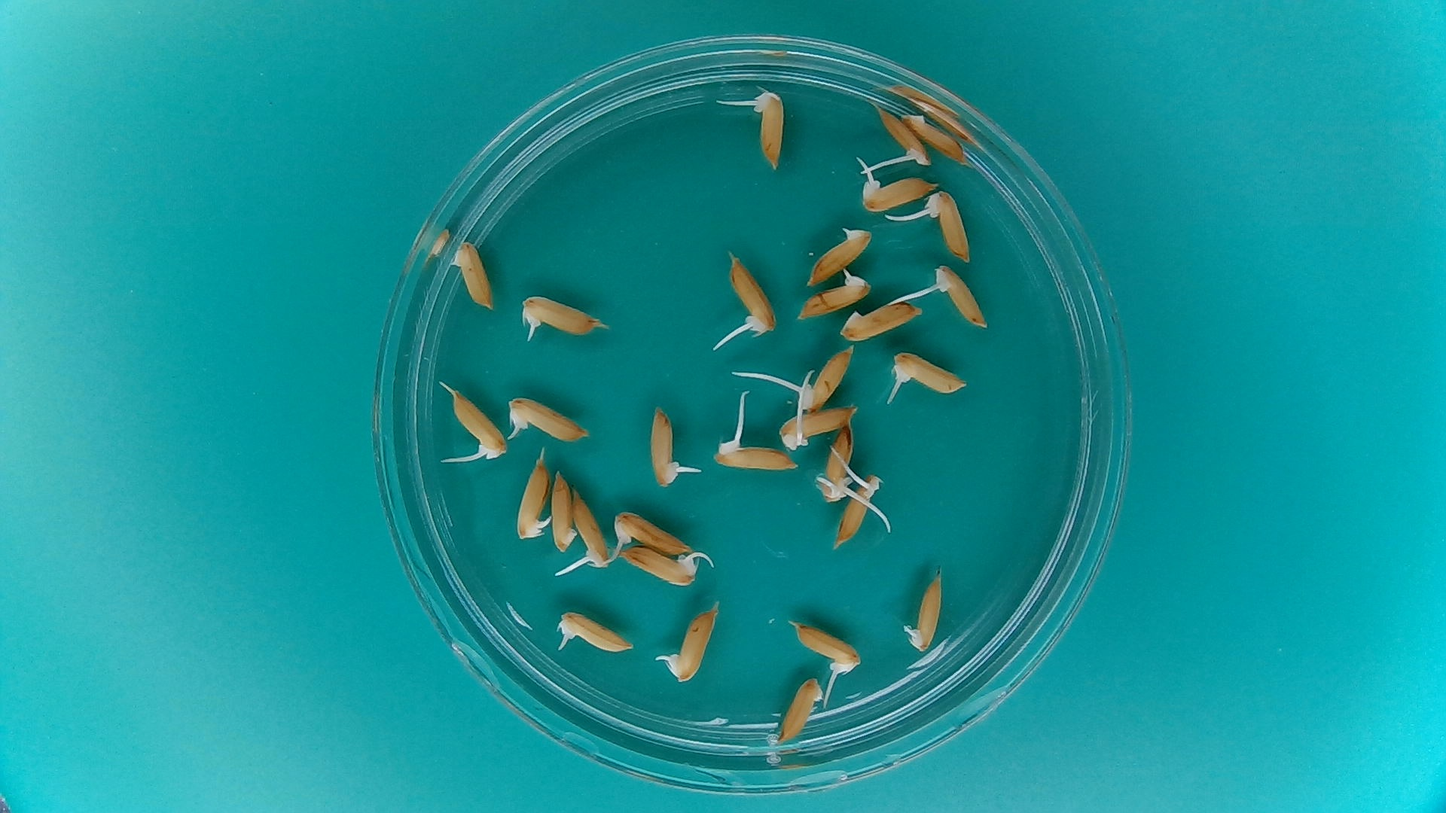no: (448, 234, 496, 312), (837, 300, 921, 343), (776, 672, 825, 745), (900, 112, 965, 163), (549, 467, 578, 555)
yes: (509, 393, 597, 445), (725, 260, 779, 341), (804, 227, 873, 286), (450, 388, 503, 463), (669, 604, 719, 682), (923, 188, 973, 263), (831, 476, 880, 552), (614, 512, 693, 559), (797, 273, 874, 321), (932, 267, 990, 330), (800, 349, 856, 414), (792, 626, 863, 677), (776, 406, 856, 449), (512, 457, 552, 543), (554, 613, 633, 656), (618, 547, 703, 586), (875, 106, 929, 166), (574, 486, 613, 568), (890, 352, 966, 394), (523, 297, 598, 339), (857, 175, 937, 213), (819, 422, 856, 501), (753, 88, 787, 172), (910, 577, 947, 653), (713, 440, 798, 473), (647, 405, 680, 489)
